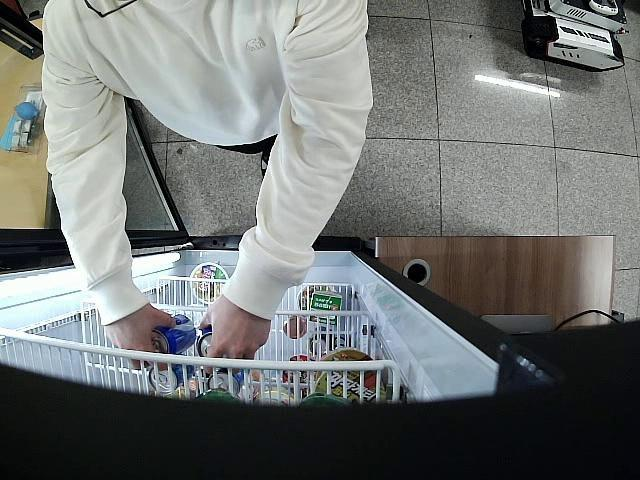13_pocariSweat: (150, 315, 197, 350), (192, 323, 213, 358)
